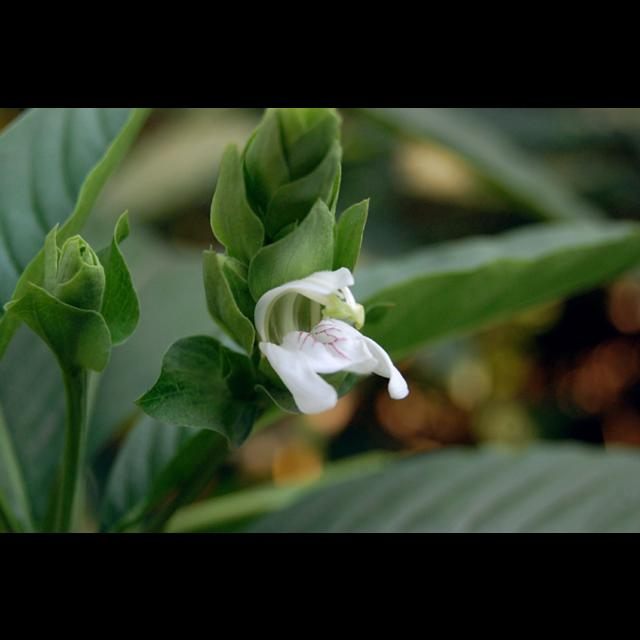Flower: (244, 263, 406, 421)
